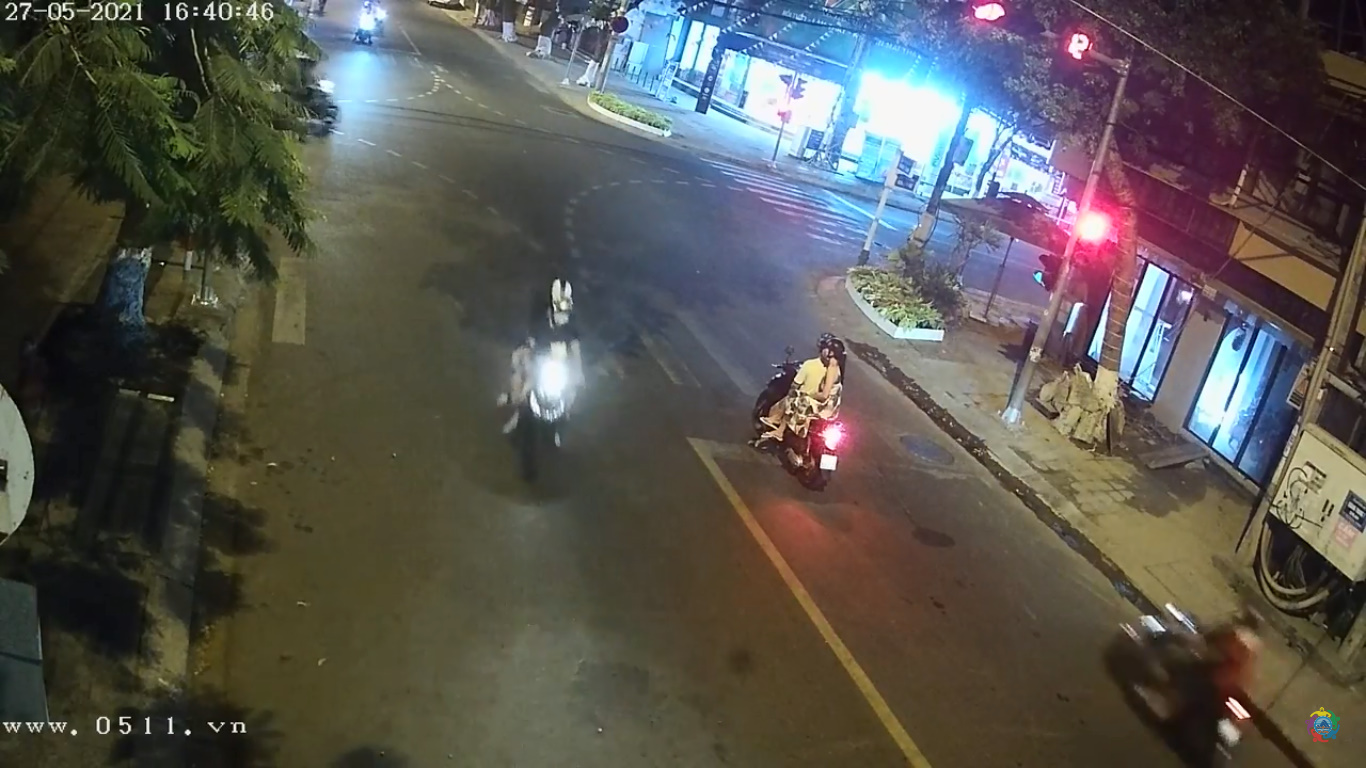motorbike: (474, 260, 612, 495)
